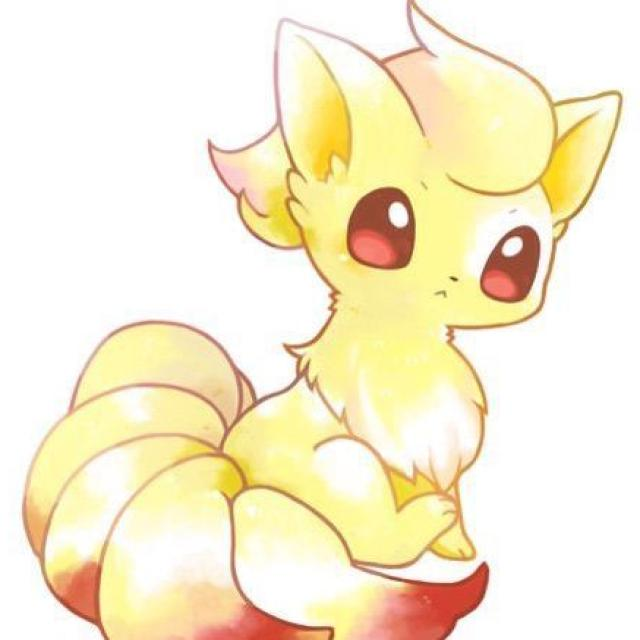Ninetales: (130, 25, 592, 620)
